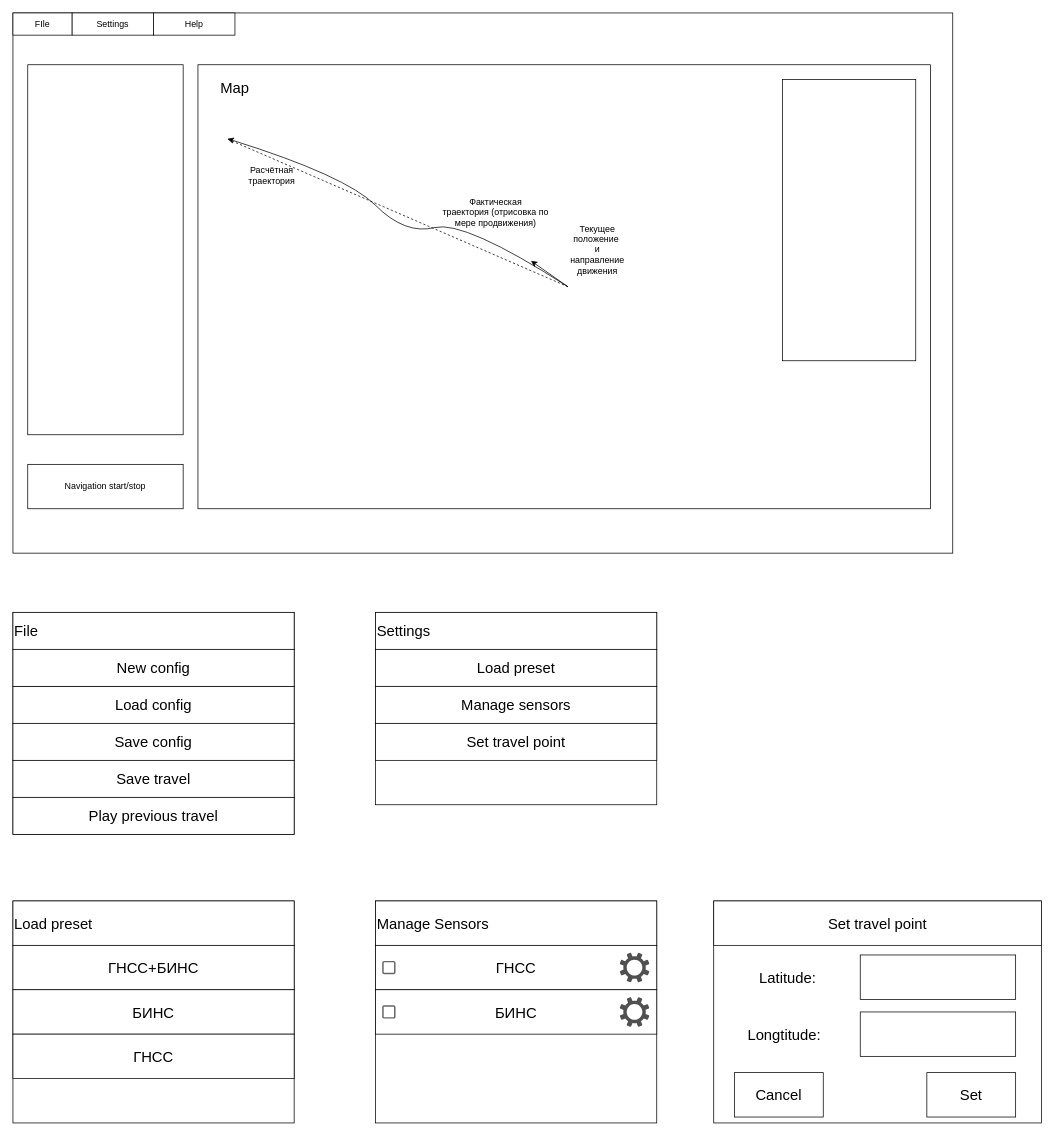
Some shapes in this 1055 by 1136 pixel diagram are drawn without their labels. Here are the shapes that lost their labels. From the top down, the centre of each, then its label:
[849,220]: Position/ Height/ Orientation/ Velocities (фон прозрачный)
[105,249]: Sensors Status/Sensor Readings
